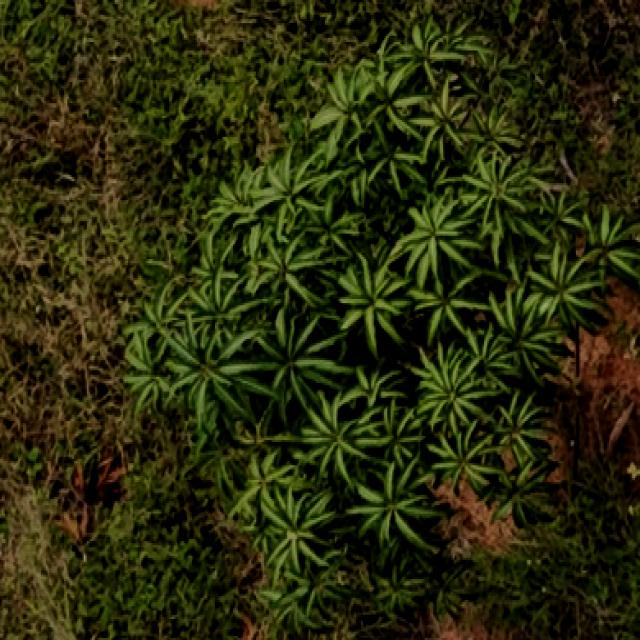mangoTree: (116, 12, 640, 640)
